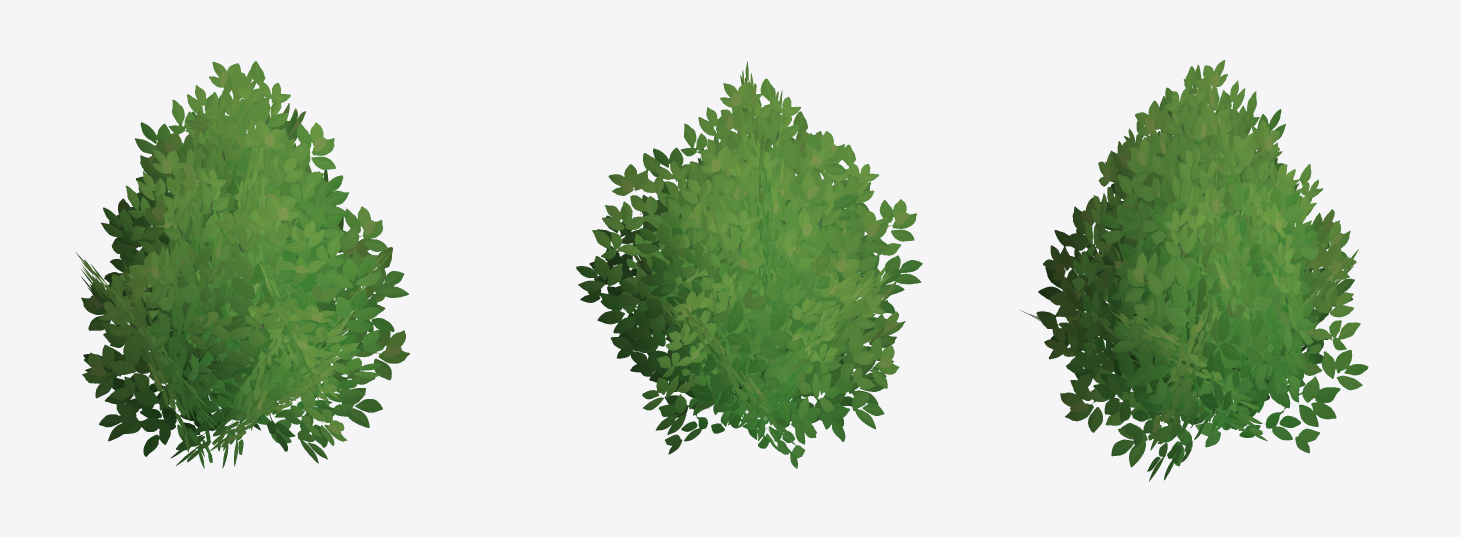
The model's file is scene_bush_04.FBX.
3 renders of one model, left to right at view 1: azimuth 30°, elevation 25°; view 2: azimuth 150°, elevation 25°; view 3: azimuth 270°, elevation 25°, orthographic. The views are drawn at different scales.
Parts seen in each view (by area): view 1: scene_bush_04; view 2: scene_bush_04; view 3: scene_bush_04.
Part boxes in pixels (x1,y1,x2,y2): scene_bush_04: (75, 61, 409, 468); scene_bush_04: (576, 61, 922, 468); scene_bush_04: (1020, 60, 1368, 481).
Bounding box in the file's own units: 1.87 × 1.94 × 1.82.
